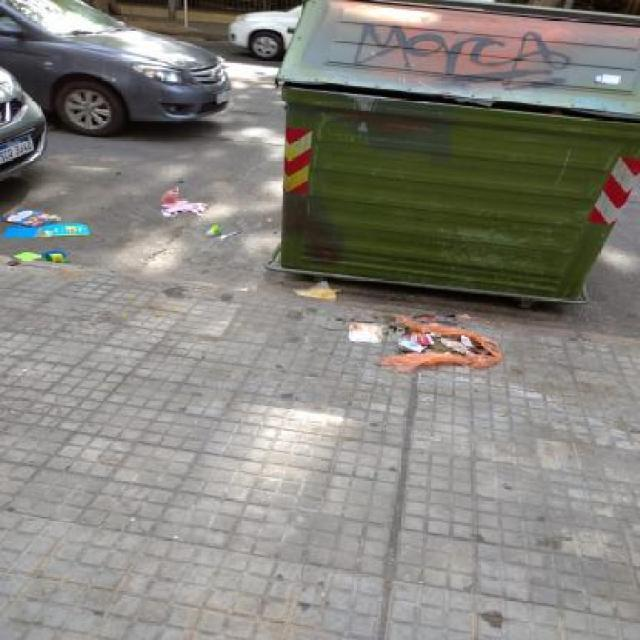garbage: (289, 271, 538, 382), (0, 202, 129, 271), (151, 172, 227, 270)
